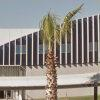Tree: (33, 7, 76, 61)
